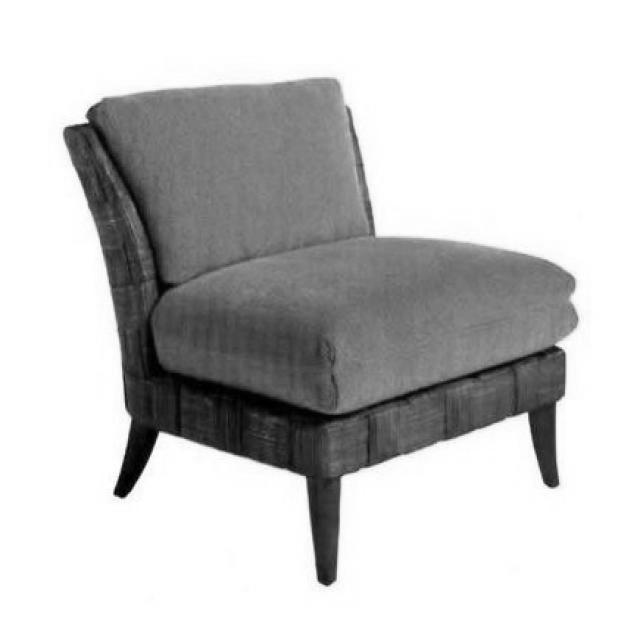chair: (61, 76, 580, 583)
